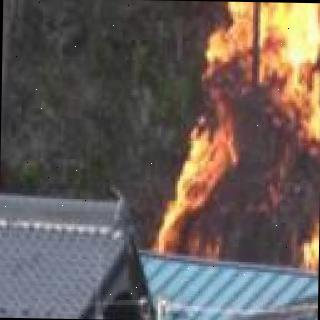fire: (161, 0, 320, 266)
